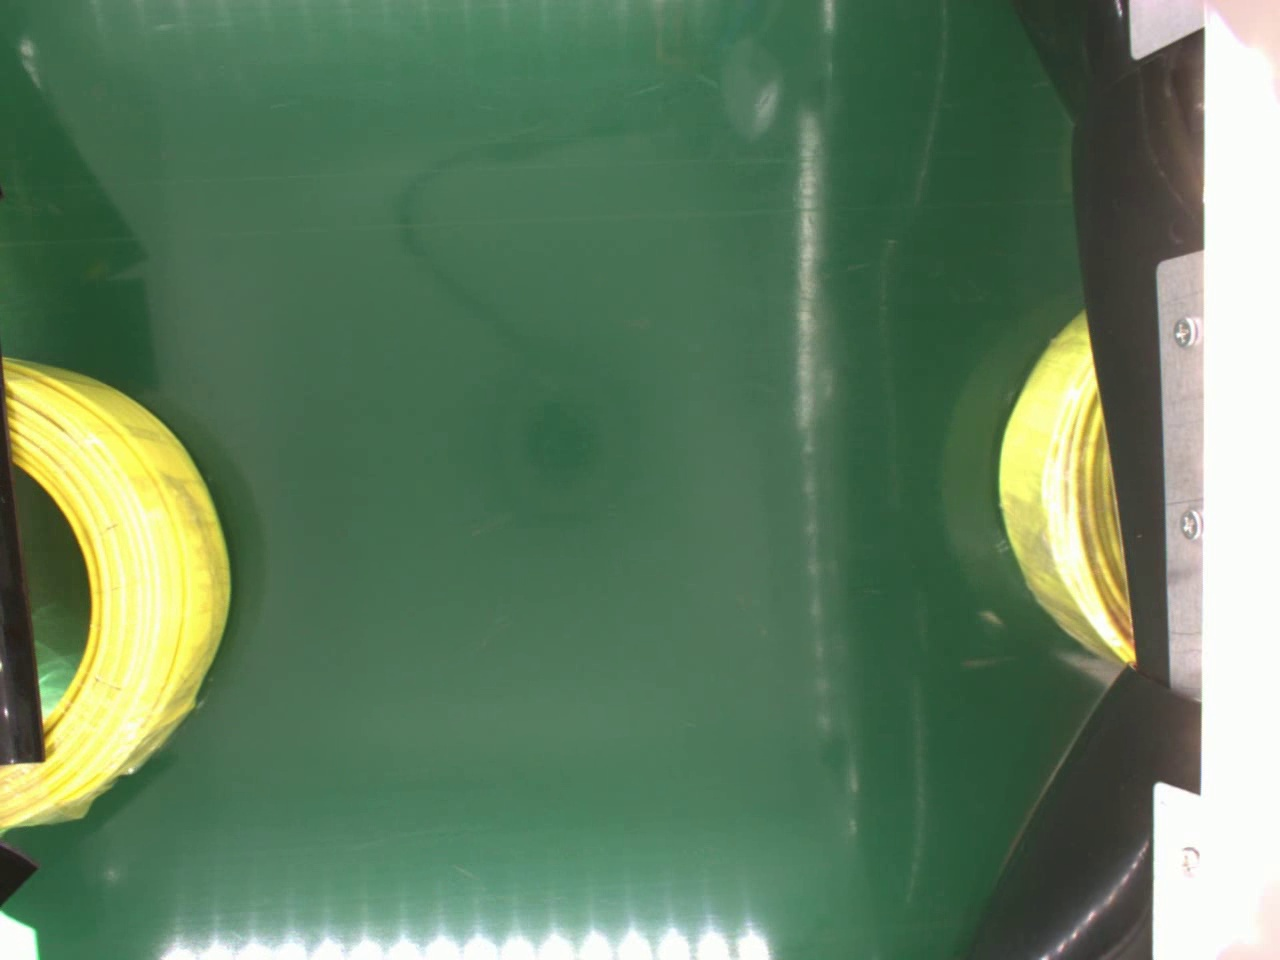yellow: (0, 353, 235, 828), (995, 309, 1133, 663)
